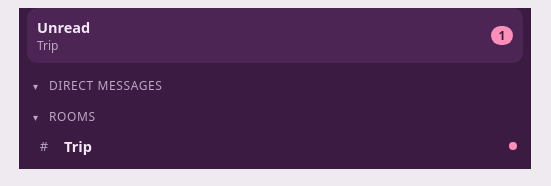
Test: a collapsed group with an unread room shows the dot on its header
Click the button "▾ Rooms": (72, 116) [19,98,531,129]
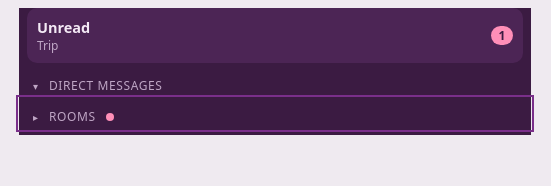
Expected: the picture named "unread" is shown, [106,112,114,120]
Result: the button "▸ Rooms" is collapsed at [19,98,531,129]
